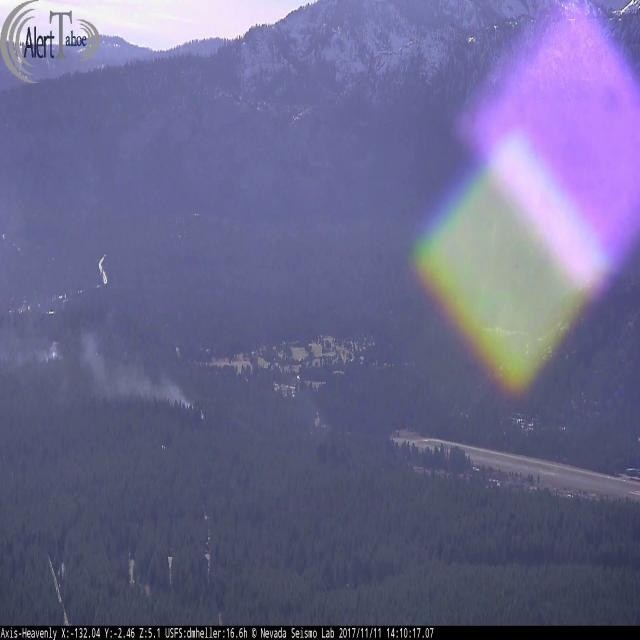smoke: (0, 301, 205, 421), (1, 172, 63, 310)
